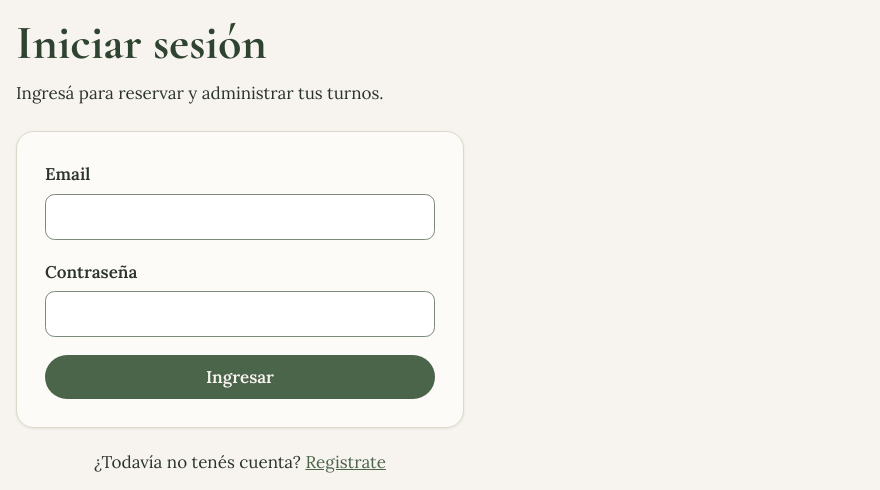
it: LoginPage › muestra el mensaje del backend cuando las credenciales son incorrectas
Type "ana@mail.com" into the field labelled "Email". click: (240, 217)
box: 45,194 -> 435,240
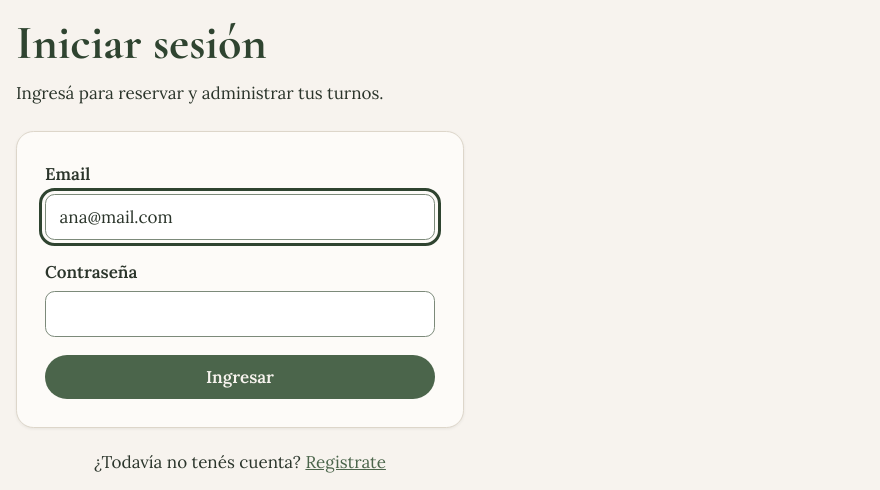
Type "mala" into the password field labelled "Contraseña". click: (240, 314)
box: 45,291 -> 435,337
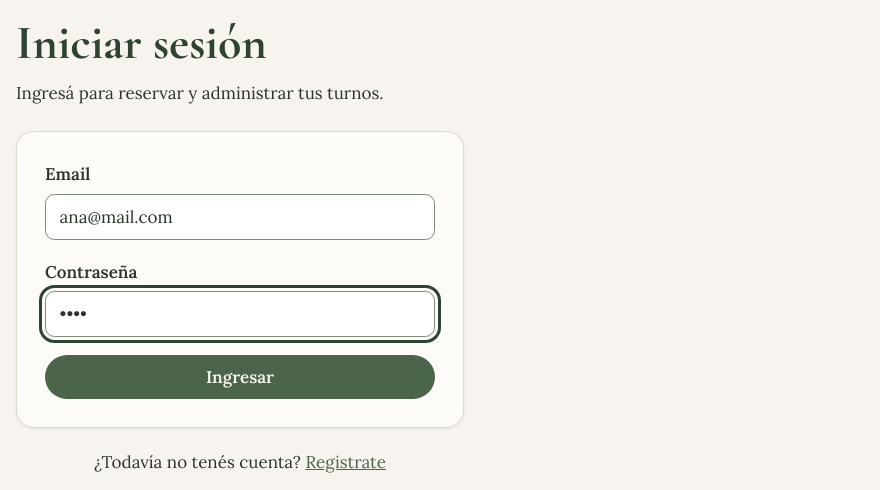
Click the button "Ingresar". click: (240, 377)
box: 45,355 -> 435,399
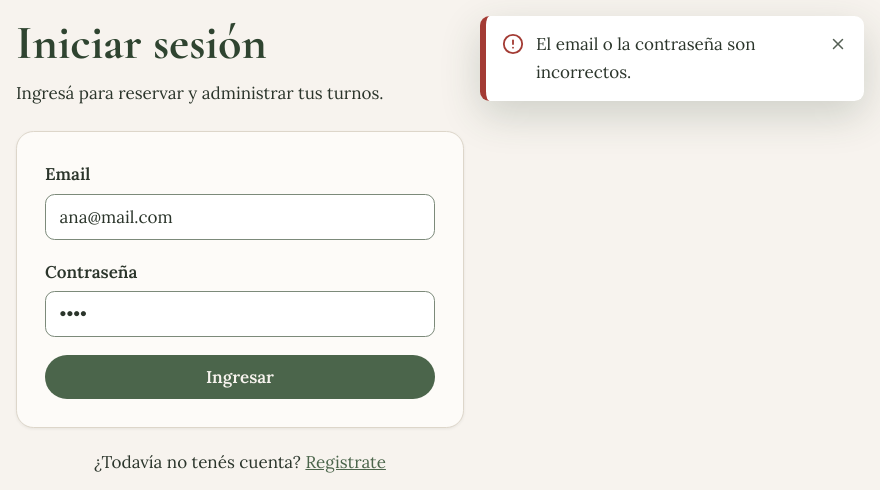
Now the message reads "El email o la contraseña son incorrectos.", box 536,33 -> 756,83
